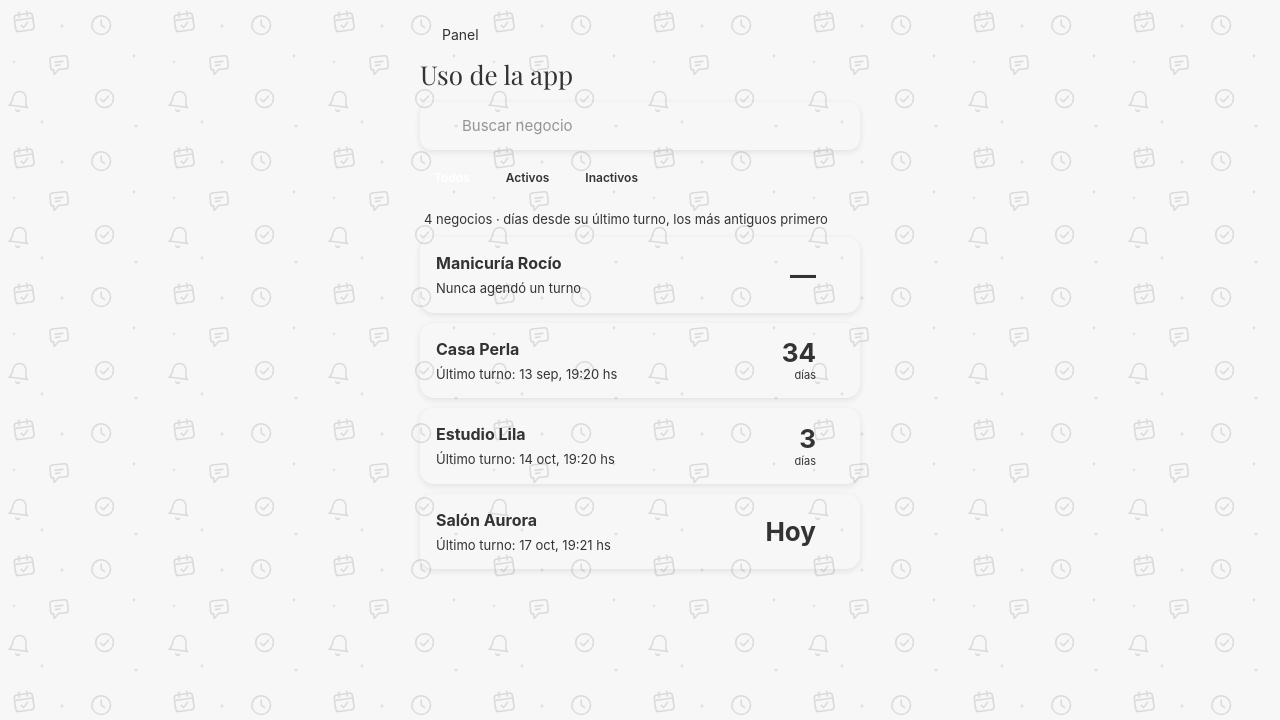
Test case: UsoPage › busca por nombre sin distinguir mayúsculas ni tildes
The image size is (1280, 720).
Check: the text "Casa Perla" is shown, box [436,339,519,359]
Type "rocio" into the field with placeholder "Buscar negocio".
click(654, 126); type("rocio")  # box [462,115,846,137]
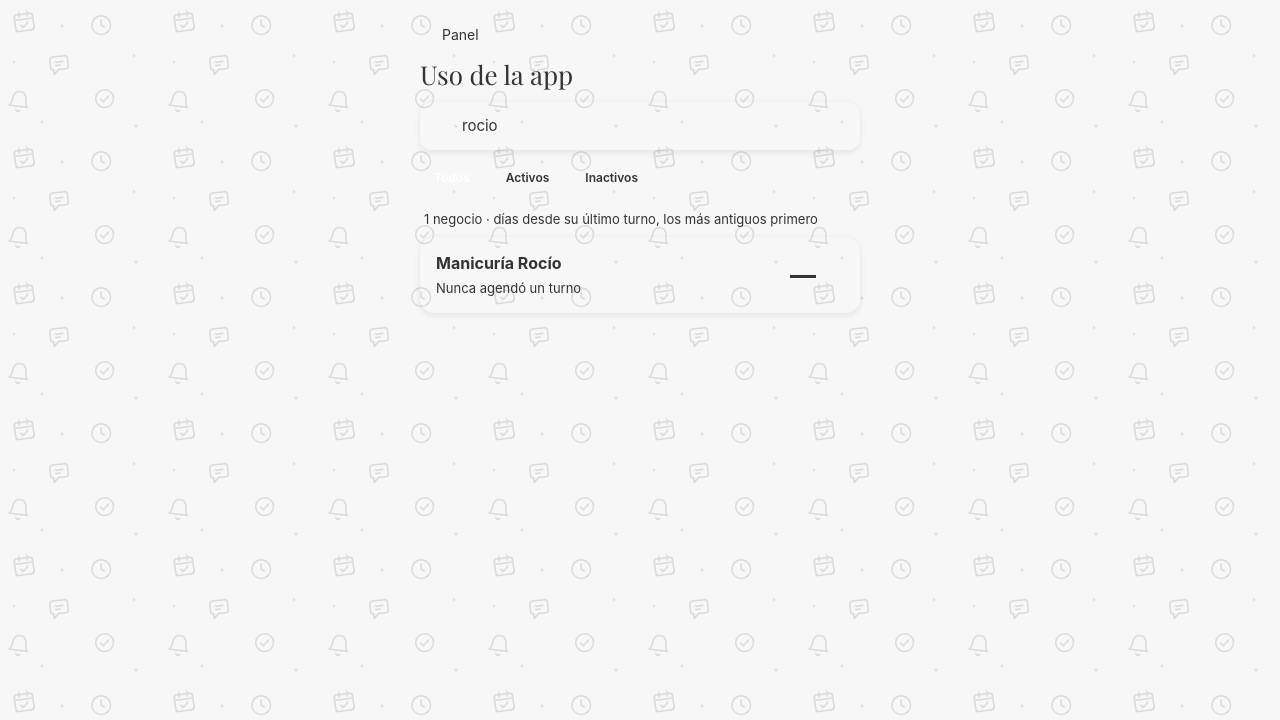
Check: the text "Manicuría Rocío" is shown, box [436,253,562,273]
Check: the link "Casa Perla" is gone
